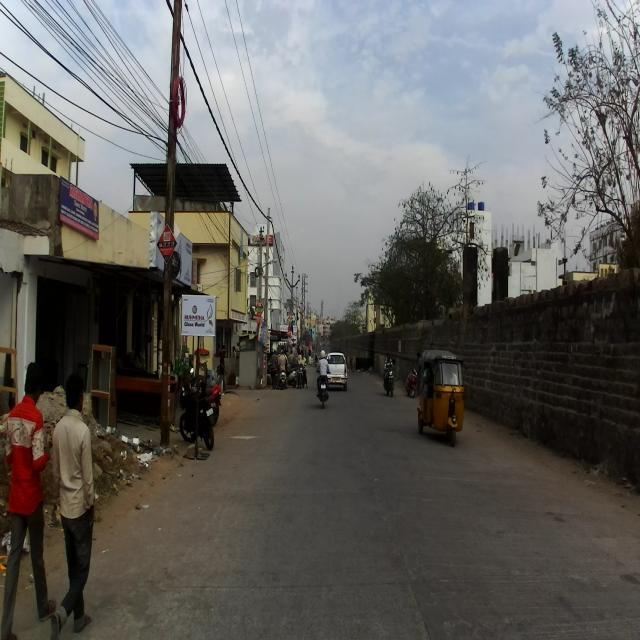auto ahead at: (418, 348, 472, 442)
electric pole ahead at: (160, 0, 182, 453)
person ahead at: (1, 356, 48, 640), (54, 378, 100, 632)
